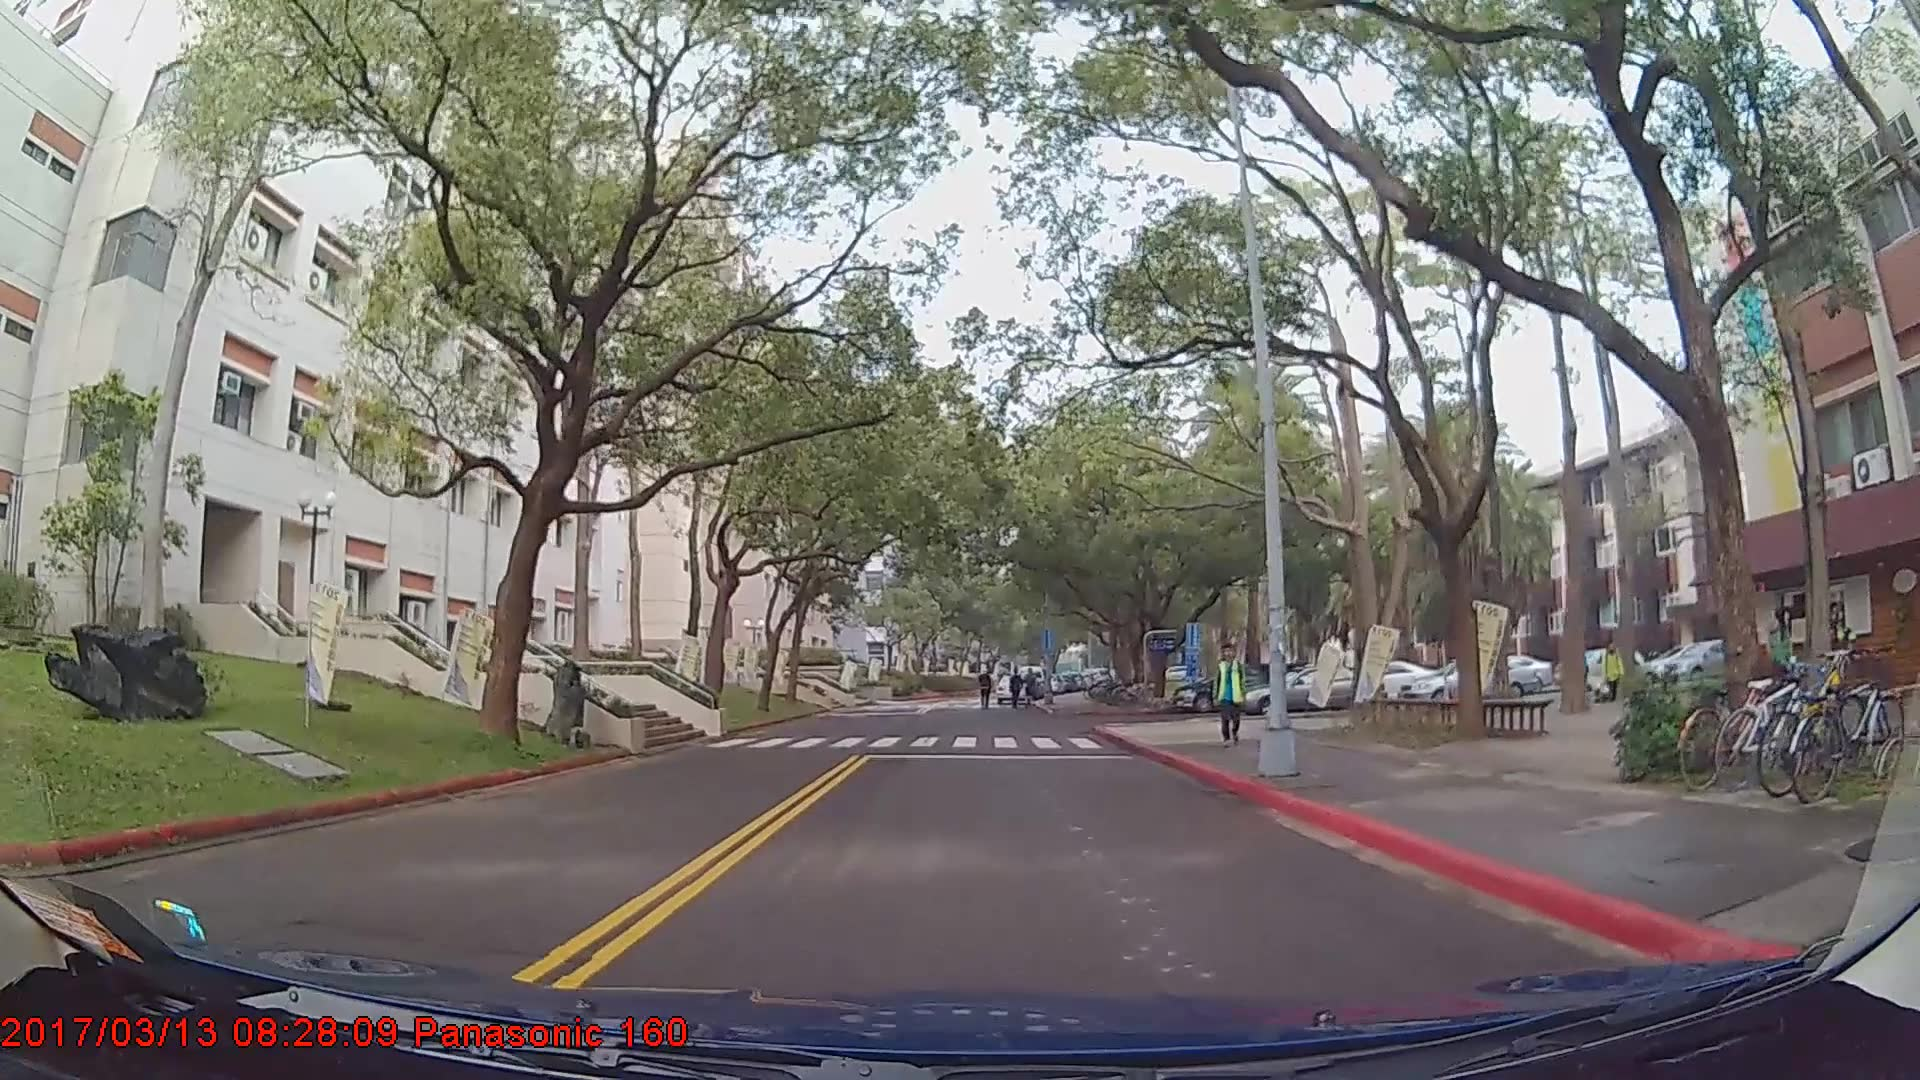pedestrian: (1212, 648, 1250, 752), (1601, 642, 1624, 706), (1007, 665, 1028, 710)
vehicle: (1401, 654, 1540, 711), (1239, 666, 1388, 719)
